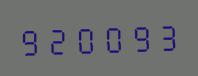nine: (17, 22, 43, 57), (126, 19, 152, 54)
three: (153, 18, 179, 53)
two: (44, 21, 70, 56)
zero: (72, 20, 98, 56), (99, 20, 125, 55)
